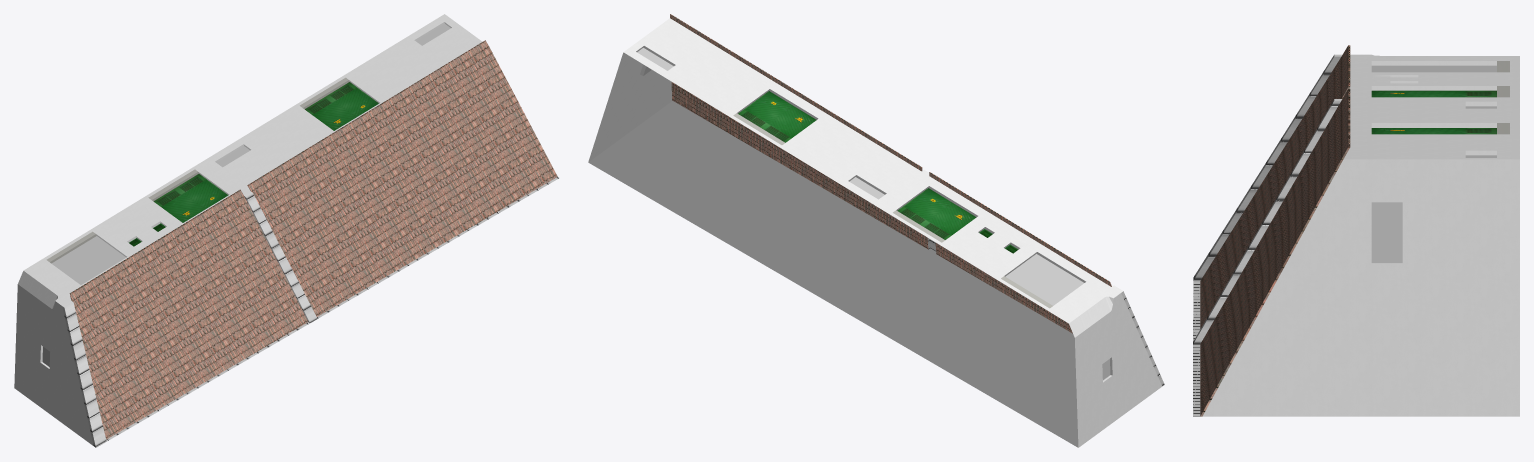
Rendered from Pyhavaimu_2_2.obj.
3 renders of one model, left to right at view 1: azimuth 30°, elevation 25°; view 2: azimuth 150°, elevation 25°; view 3: azimuth 270°, elevation 25°, orthographic. The views are drawn at different scales.
Parts seen in each view (by area): view 1: Pyhavaimu_2_2; view 2: Pyhavaimu_2_2; view 3: Pyhavaimu_2_2.
Boxes of the visible parts, x1,y1,x2,y2 form: Pyhavaimu_2_2: (14, 14, 559, 447); Pyhavaimu_2_2: (588, 14, 1164, 447); Pyhavaimu_2_2: (1193, 45, 1519, 416).
Bounding box in the file's own units: 22.07 × 12.48 × 6.73.
